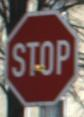Stop sign: (0, 0, 83, 116)
